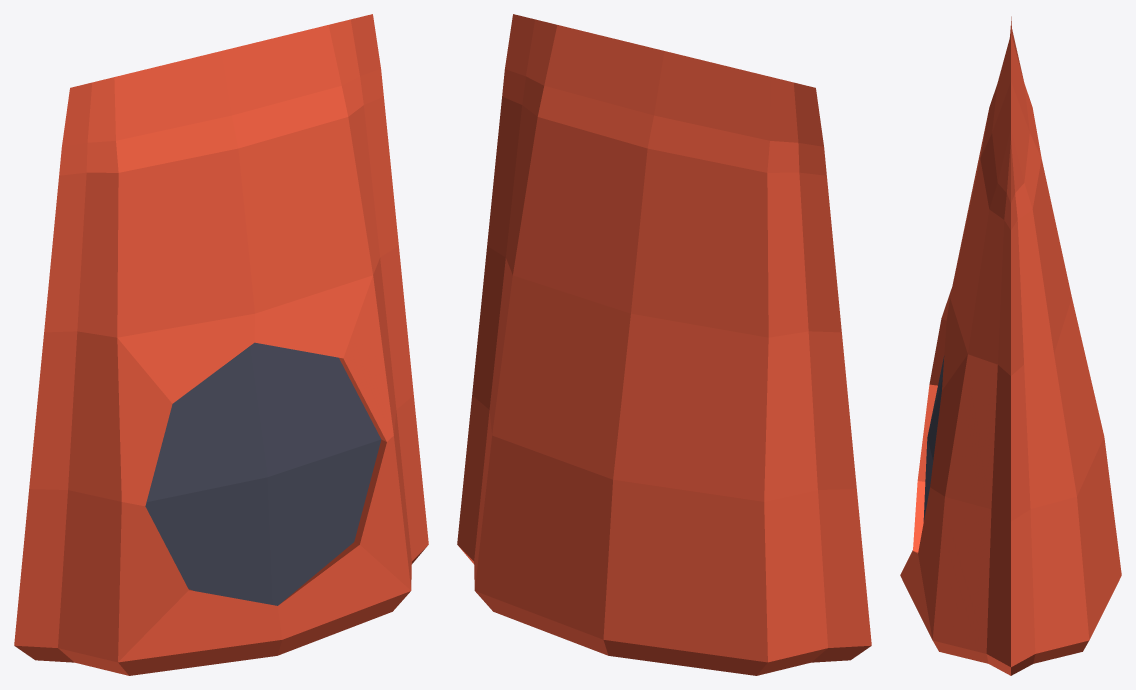
File: VER 2 eyes of newt.fbx
3 views of the same model, side by side, from view 1: azimuth 30°, elevation 25°; view 2: azimuth 150°, elevation 25°; view 3: azimuth 270°, elevation 25° (orthographic). The views are drawn at different scales.
Parts seen in each view (by area): view 1: eyes of newt packaged; view 2: eyes of newt packaged; view 3: eyes of newt packaged.
Boxes of the visible parts, x1,y1,x2,y2 form: eyes of newt packaged: (14, 14, 428, 675); eyes of newt packaged: (457, 14, 871, 675); eyes of newt packaged: (900, 16, 1121, 675).
Size of the model in its own units: 0.7467 by 0.3805 by 0.9703.
